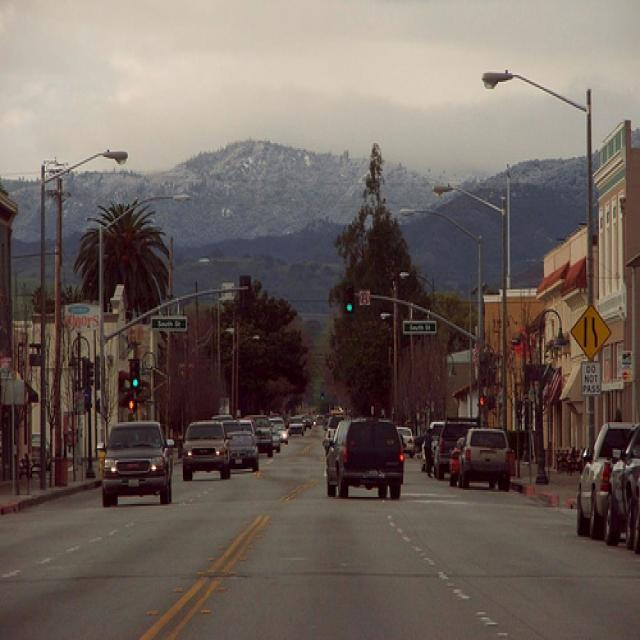fire_hydrant: (97, 450, 105, 474)
